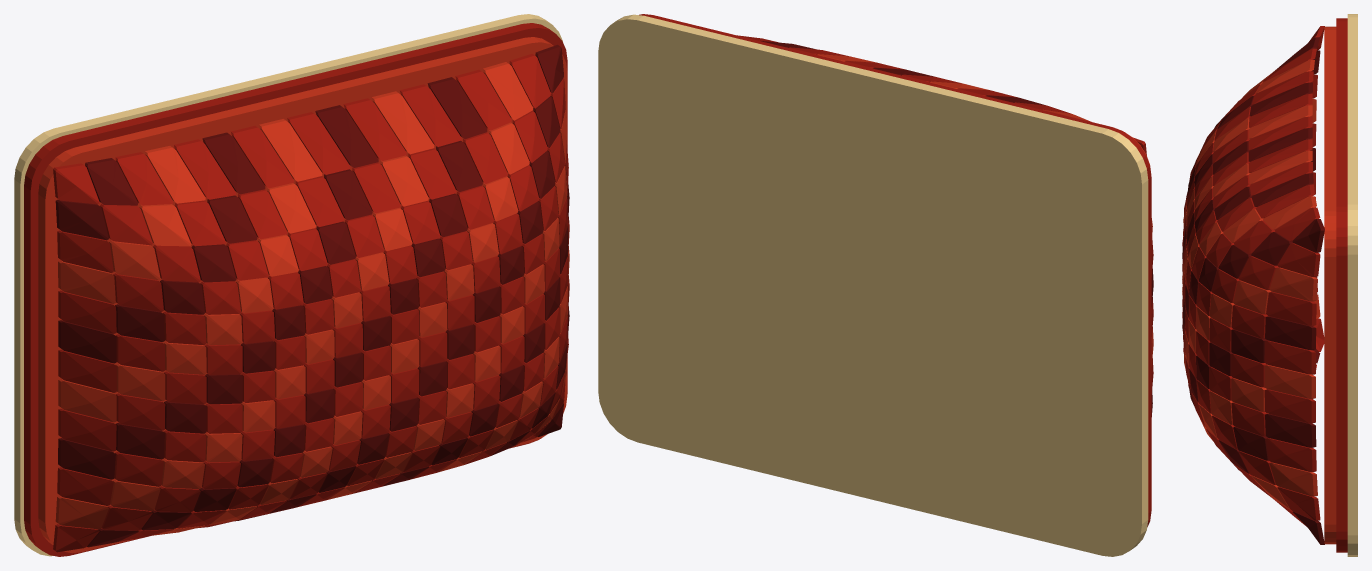
File: HealingRoof.obj
The picture shows the model from 3 angles, left to right: view 1: azimuth 30°, elevation 25°; view 2: azimuth 150°, elevation 25°; view 3: azimuth 270°, elevation 25°; orthographic projection. The views are drawn at different scales.
Parts seen in each view (by area): view 1: HealingRoof; view 2: HealingRoof; view 3: HealingRoof.
Part boxes in pixels (x1,y1,x2,y2): HealingRoof: (14,14,569,556); HealingRoof: (598,14,1153,556); HealingRoof: (1182,14,1357,556).
Size of the model in its own units: 620 by 460 by 210.
